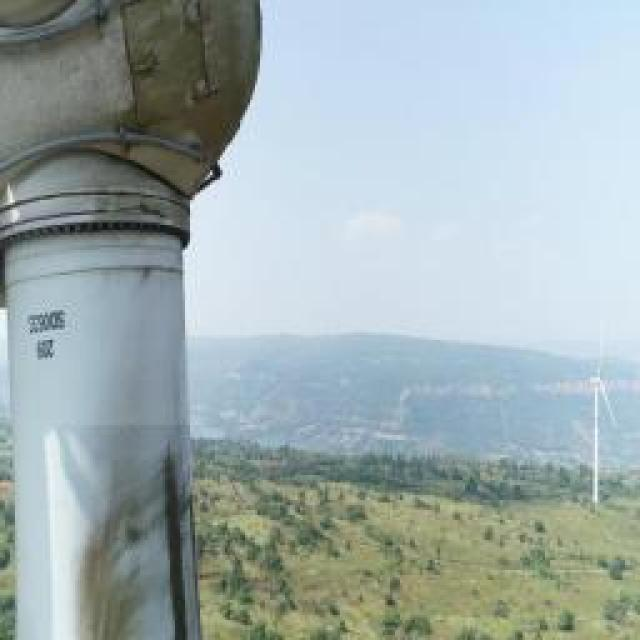Dirt: (50, 422, 195, 640)
